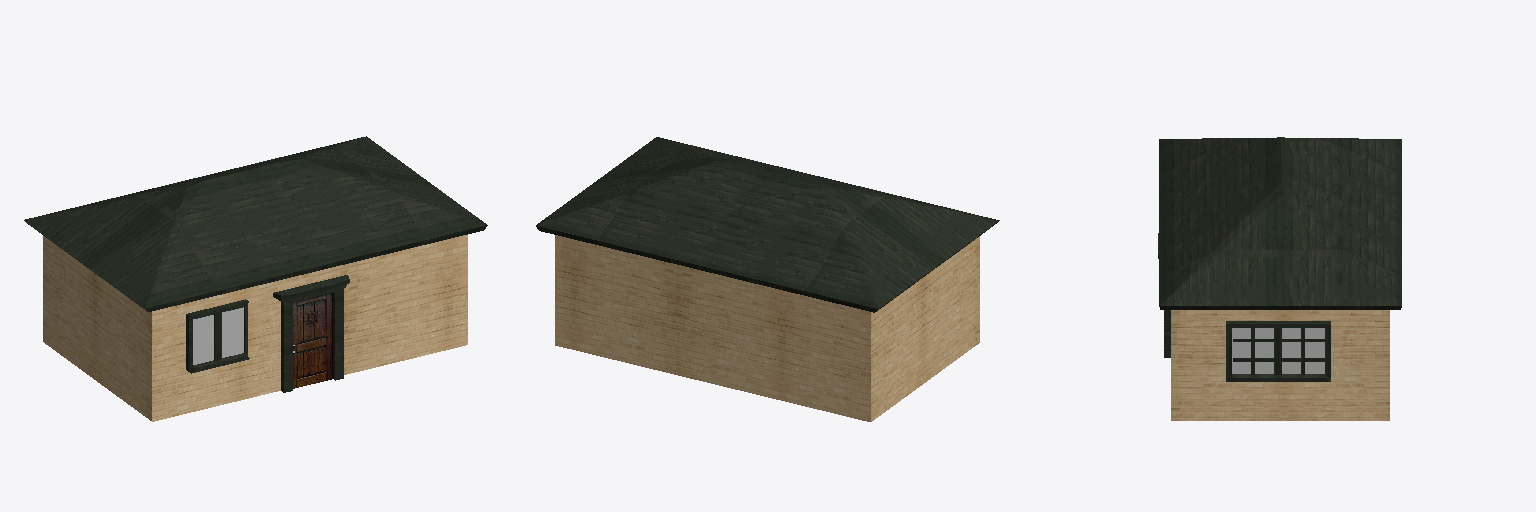
3 renders of one model, left to right at view 1: azimuth 30°, elevation 25°; view 2: azimuth 150°, elevation 25°; view 3: azimuth 270°, elevation 25°, orthographic.
Visible parts, largest first — view 1: house_body roof1, house_body, house_body door full_door, house_body full_door door_frame, house_body front_window windows front_window_glass, house_body front_window windows; view 2: house_body, house_body roof1; view 3: house_body roof1, house_body, house_body windows side_window side_window_glass, house_body windows side_window.
Boxes of the visible parts, box(x1,y1,x2,y2) form: house_body roof1: box(24, 136, 487, 311); house_body: box(43, 235, 467, 421); house_body door full_door: box(293, 293, 332, 388); house_body full_door door_frame: box(273, 275, 349, 392); house_body front_window windows front_window_glass: box(193, 307, 243, 364); house_body front_window windows: box(186, 299, 249, 373); house_body: box(555, 235, 979, 421); house_body roof1: box(536, 137, 999, 312); house_body roof1: box(1159, 137, 1401, 309); house_body: box(1171, 310, 1389, 420); house_body windows side_window side_window_glass: box(1232, 328, 1324, 373); house_body windows side_window: box(1226, 321, 1330, 381).
Bounding box in the file's own units: 10.86 × 5.3 × 6.69.
Materials: 5 (3 with a texture image).